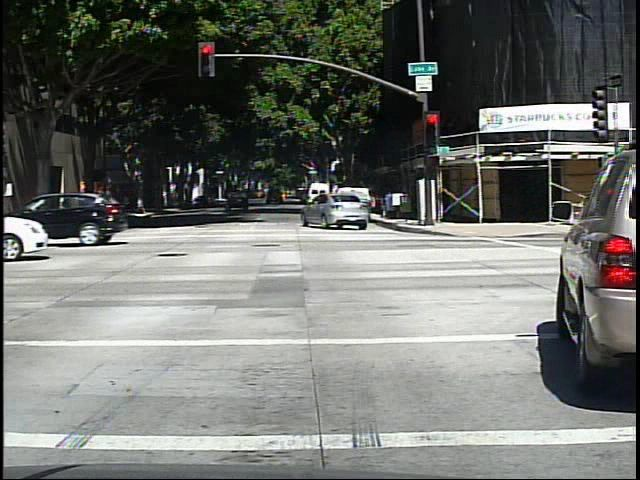person: (98, 186, 113, 218)
